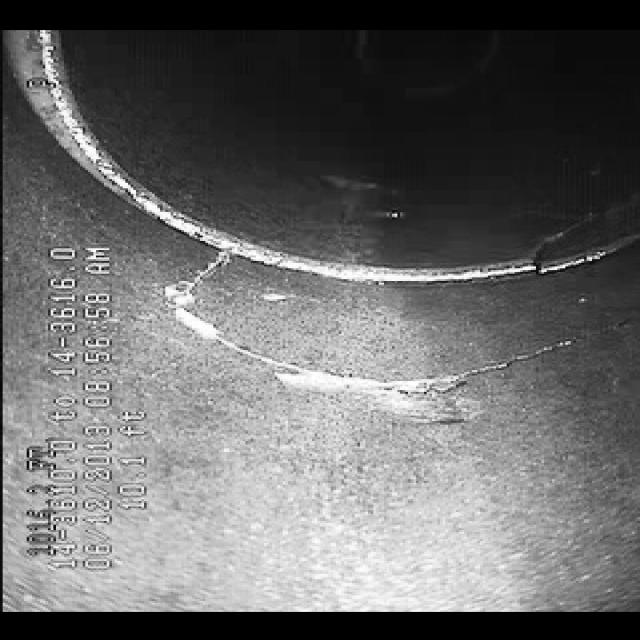Crack: (160, 288, 554, 399)
